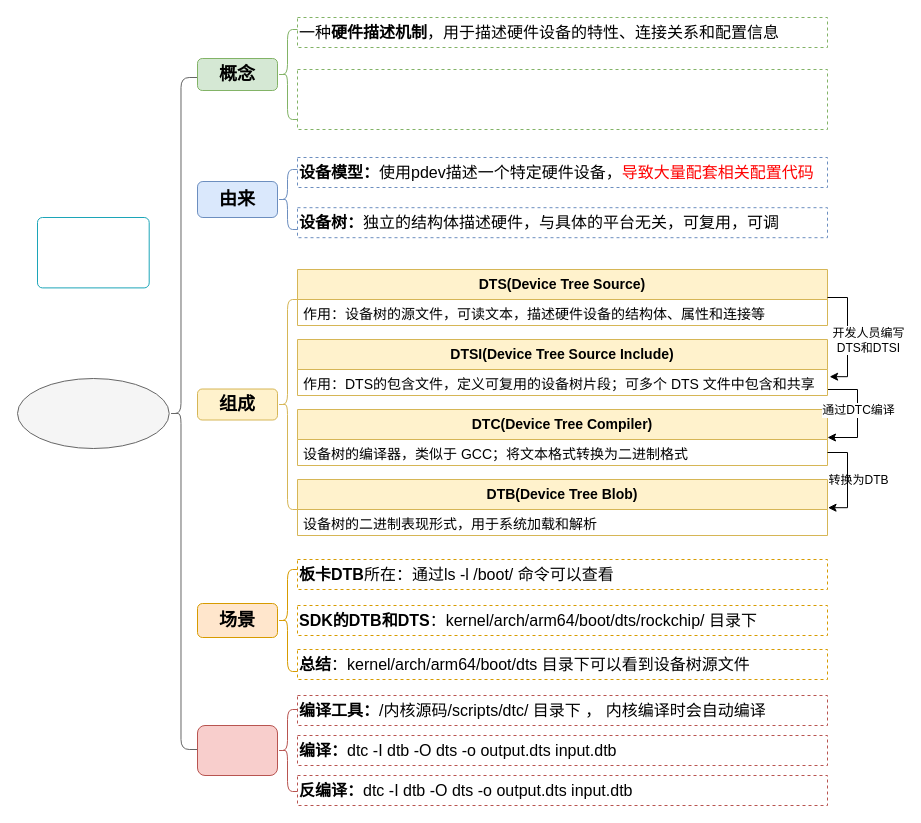
Some shapes in this 921 by 823 pixel diagram are drawn without their labels. Each missing label, with the centre of its shape:
编译: pixel 237 750
设备树简介: pixel 92 413
说人话： "硬件说明书"，告诉操作系统你的板子上有什么硬件，这些硬件在哪里，如何连接的: pixel 562 99
🌻Make By Dakkk: pixel 92 252
